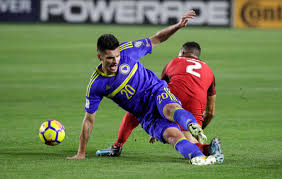soccer player: (70, 8, 225, 165), (96, 40, 222, 158)
soccerball: (37, 119, 68, 146)
